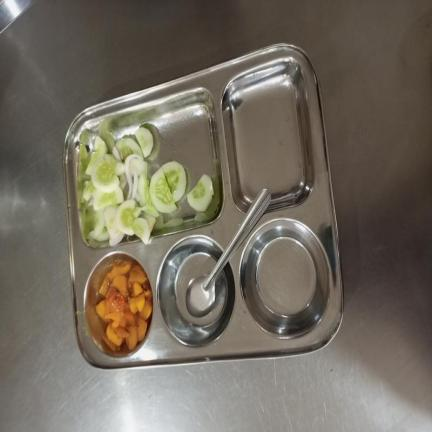Aalu Ki Sabji: (95, 260, 152, 352)
Plate: (64, 43, 344, 370)
Salad: (82, 128, 186, 248), (186, 174, 214, 213)
